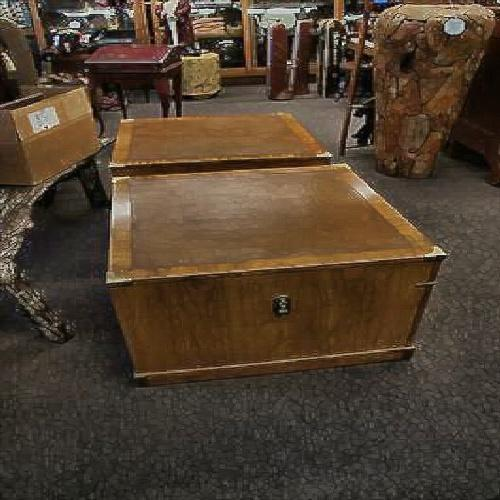cabinet: (101, 122, 441, 384)
